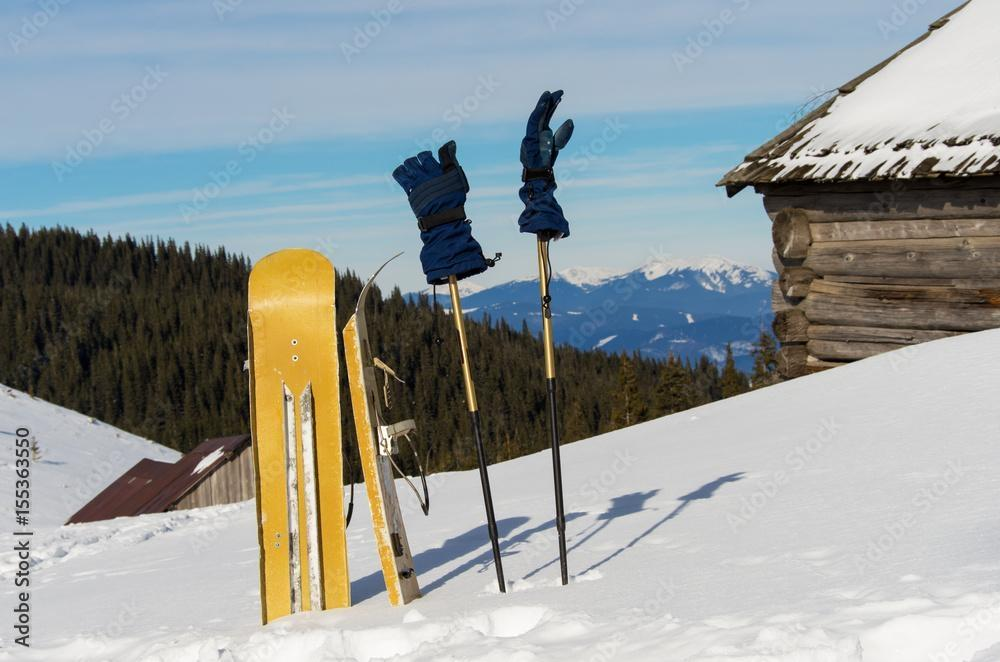Skis: (232, 229, 430, 636)
